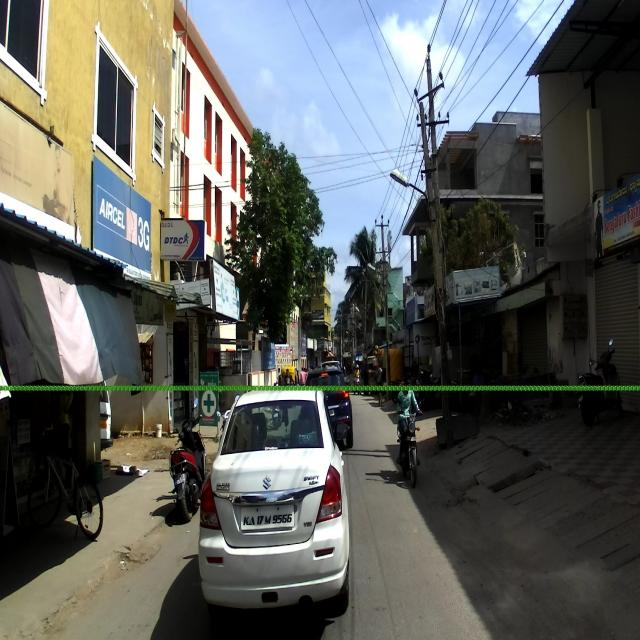car: (196, 386, 351, 626)
motorcycle: (396, 398, 422, 487)
scooter: (168, 396, 207, 524), (574, 337, 625, 426)
